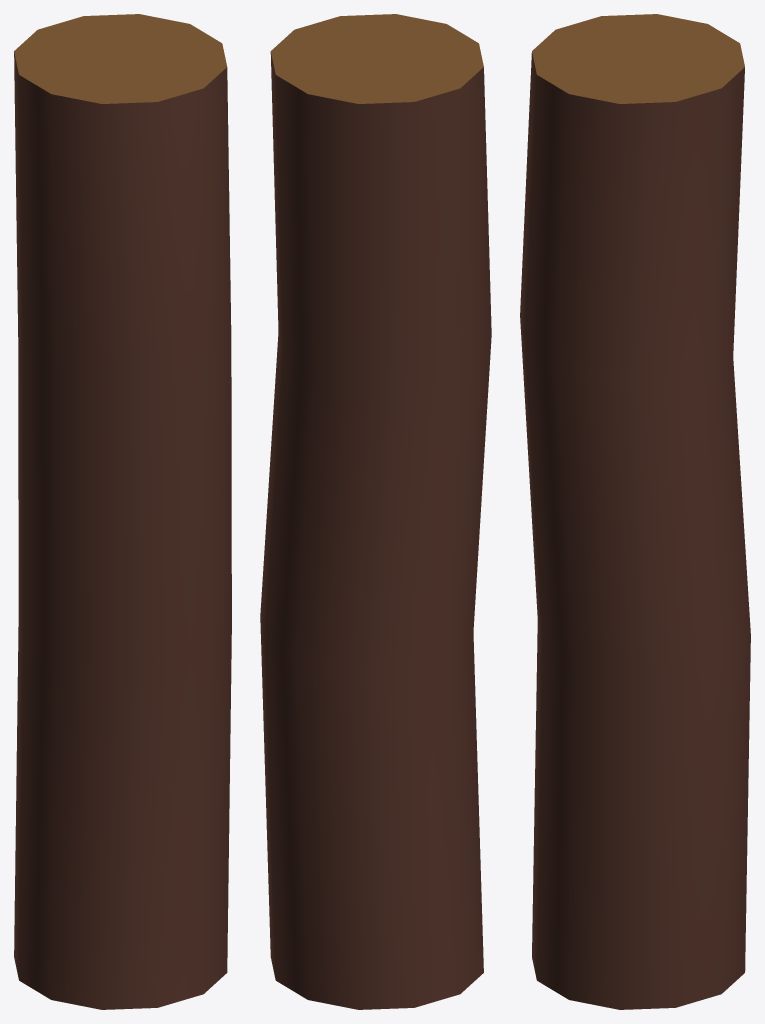
The model's file is WoodSemiRoundFence_Pillar.fbx.
3 renders of one model, left to right at view 1: azimuth 30°, elevation 25°; view 2: azimuth 150°, elevation 25°; view 3: azimuth 270°, elevation 25°, orthographic.
Parts seen in each view (by area): view 1: WoodSemiRoundFence_Pillar; view 2: WoodSemiRoundFence_Pillar; view 3: WoodSemiRoundFence_Pillar.
Boxes of the visible parts, bbox=[...] form: WoodSemiRoundFence_Pillar: bbox=[14, 14, 231, 1009]; WoodSemiRoundFence_Pillar: bbox=[260, 14, 491, 1009]; WoodSemiRoundFence_Pillar: bbox=[520, 14, 750, 1009].
Bounding box in the file's own units: 38.98 × 174 × 40.18.
